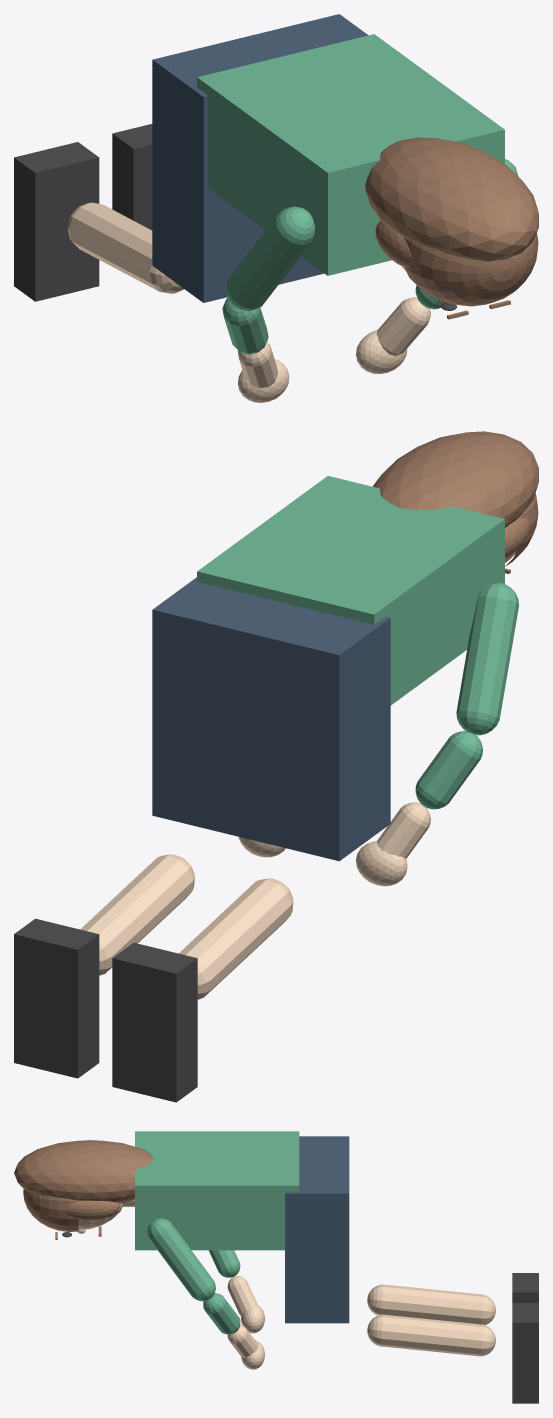
The model's file is CHAR_FEMALE_001_POSE_TYPING_001.glb.
3 renders of one model, top to bottom at view 1: azimuth 30°, elevation 25°; view 2: azimuth 150°, elevation 25°; view 3: azimuth 270°, elevation 25°, orthographic. The views are drawn at different scales.
Parts seen in each view (by area): view 1: CHAR_FEMALE_001_torso_jacket, CHAR_FEMALE_001_skirt_seated, CHAR_FEMALE_001_back_hair, CHAR_FEMALE_001_shoe_L, CHAR_FEMALE_001_hair_cap, CHAR_FEMALE_001_calf_L, CHAR_FEMALE_001_upper_arm_L, CHAR_FEMALE_001_shoe_R, CHAR_FEMALE_001_wrist_R, CHAR_FEMALE_001_forearm_L, CHAR_FEMALE_001_hand_R, CHAR_FEMALE_001_wrist_L (+2 smaller); view 2: CHAR_FEMALE_001_skirt_seated, CHAR_FEMALE_001_torso_jacket, CHAR_FEMALE_001_shoe_L, CHAR_FEMALE_001_shoe_R, CHAR_FEMALE_001_back_hair, CHAR_FEMALE_001_upper_arm_L, CHAR_FEMALE_001_calf_L, CHAR_FEMALE_001_calf_R, CHAR_FEMALE_001_forearm_L, CHAR_FEMALE_001_wrist_L, CHAR_FEMALE_001_hand_L; view 3: CHAR_FEMALE_001_torso_jacket, CHAR_FEMALE_001_skirt_seated, CHAR_FEMALE_001_back_hair, CHAR_FEMALE_001_calf_R, CHAR_FEMALE_001_calf_L, CHAR_FEMALE_001_shoe_R, CHAR_FEMALE_001_upper_arm_R, CHAR_FEMALE_001_hair_cap, CHAR_FEMALE_001_forearm_R, CHAR_FEMALE_001_hair_side_R, CHAR_FEMALE_001_shoe_L, CHAR_FEMALE_001_wrist_L (+4 smaller).
Boxes of the visible parts, box(x1,y1,x2,y2) form: CHAR_FEMALE_001_torso_jacket: box(197, 34, 504, 275); CHAR_FEMALE_001_skirt_seated: box(152, 14, 368, 302); CHAR_FEMALE_001_back_hair: box(365, 137, 538, 261); CHAR_FEMALE_001_shoe_L: box(14, 142, 99, 301); CHAR_FEMALE_001_hair_cap: box(403, 233, 538, 306); CHAR_FEMALE_001_calf_L: box(67, 202, 184, 293); CHAR_FEMALE_001_upper_arm_L: box(226, 206, 314, 311); CHAR_FEMALE_001_shoe_R: box(112, 124, 152, 230); CHAR_FEMALE_001_wrist_R: box(376, 297, 430, 356); CHAR_FEMALE_001_forearm_L: box(222, 298, 268, 354); CHAR_FEMALE_001_hand_R: box(356, 330, 407, 373); CHAR_FEMALE_001_wrist_L: box(238, 342, 278, 388); CHAR_FEMALE_001_skirt_seated: box(152, 577, 390, 861); CHAR_FEMALE_001_torso_jacket: box(197, 476, 504, 705); CHAR_FEMALE_001_shoe_L: box(112, 942, 197, 1102); CHAR_FEMALE_001_shoe_R: box(14, 918, 99, 1078); CHAR_FEMALE_001_back_hair: box(373, 431, 538, 527); CHAR_FEMALE_001_upper_arm_L: box(456, 582, 518, 735); CHAR_FEMALE_001_calf_L: box(179, 878, 293, 999); CHAR_FEMALE_001_calf_R: box(80, 854, 194, 975); CHAR_FEMALE_001_forearm_L: box(415, 731, 482, 809); CHAR_FEMALE_001_wrist_L: box(376, 802, 430, 858); CHAR_FEMALE_001_hand_L: box(356, 841, 407, 886); CHAR_FEMALE_001_torso_jacket: box(135, 1131, 299, 1250); CHAR_FEMALE_001_skirt_seated: box(285, 1136, 349, 1323); CHAR_FEMALE_001_back_hair: box(14, 1140, 153, 1203); CHAR_FEMALE_001_calf_R: box(367, 1314, 495, 1356); CHAR_FEMALE_001_calf_L: box(367, 1284, 495, 1325); CHAR_FEMALE_001_shoe_R: box(512, 1303, 538, 1403); CHAR_FEMALE_001_upper_arm_R: box(147, 1218, 215, 1301); CHAR_FEMALE_001_hair_cap: box(23, 1189, 78, 1231); CHAR_FEMALE_001_forearm_R: box(203, 1293, 240, 1334); CHAR_FEMALE_001_hair_side_R: box(65, 1200, 119, 1220); CHAR_FEMALE_001_shoe_L: box(512, 1273, 538, 1302); CHAR_FEMALE_001_wrist_L: box(227, 1276, 258, 1315).
Size of the model in its own units: 0.5304 by 0.6965 by 1.43.
